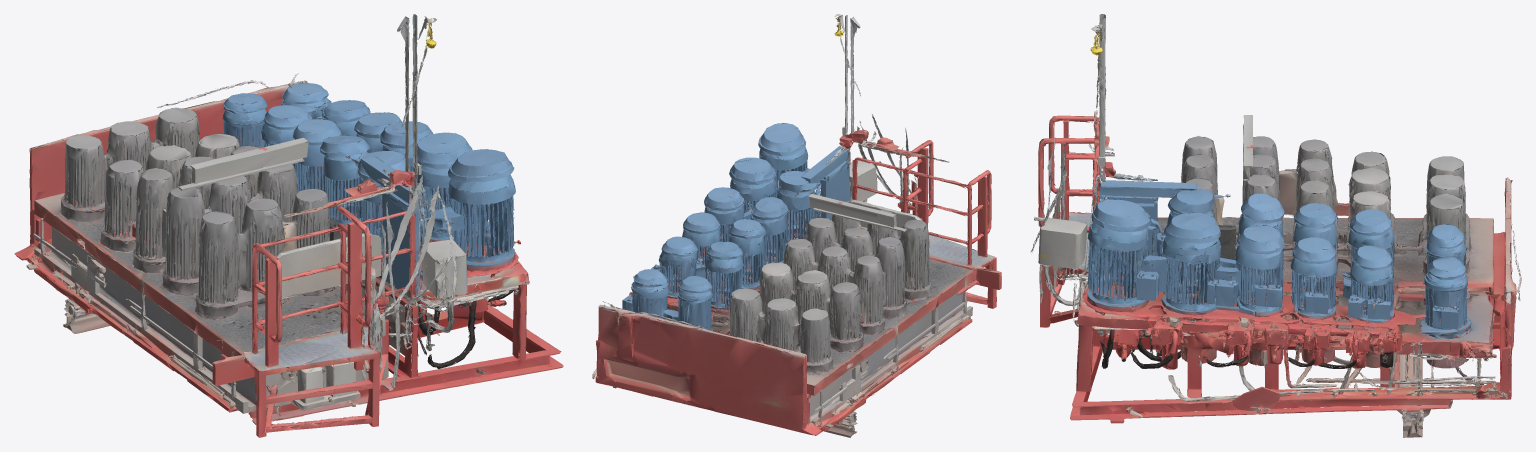
File: mina_hpu.glb
The picture shows the model from 3 angles, left to right: view 1: azimuth 30°, elevation 25°; view 2: azimuth 150°, elevation 25°; view 3: azimuth 270°, elevation 25°; orthographic projection. The views are drawn at different scales.
Visible parts, largest first — view 1: model; view 2: model; view 3: model.
Boxes of the visible parts, left/top/right/bottom form: model: left=14, top=14, right=563, bottom=437; model: left=592, top=14, right=1001, bottom=437; model: left=1030, top=14, right=1521, bottom=437.
Bounding box in the file's own units: 1.41 × 1.55 × 1.89.
1 material, 1 textured.
